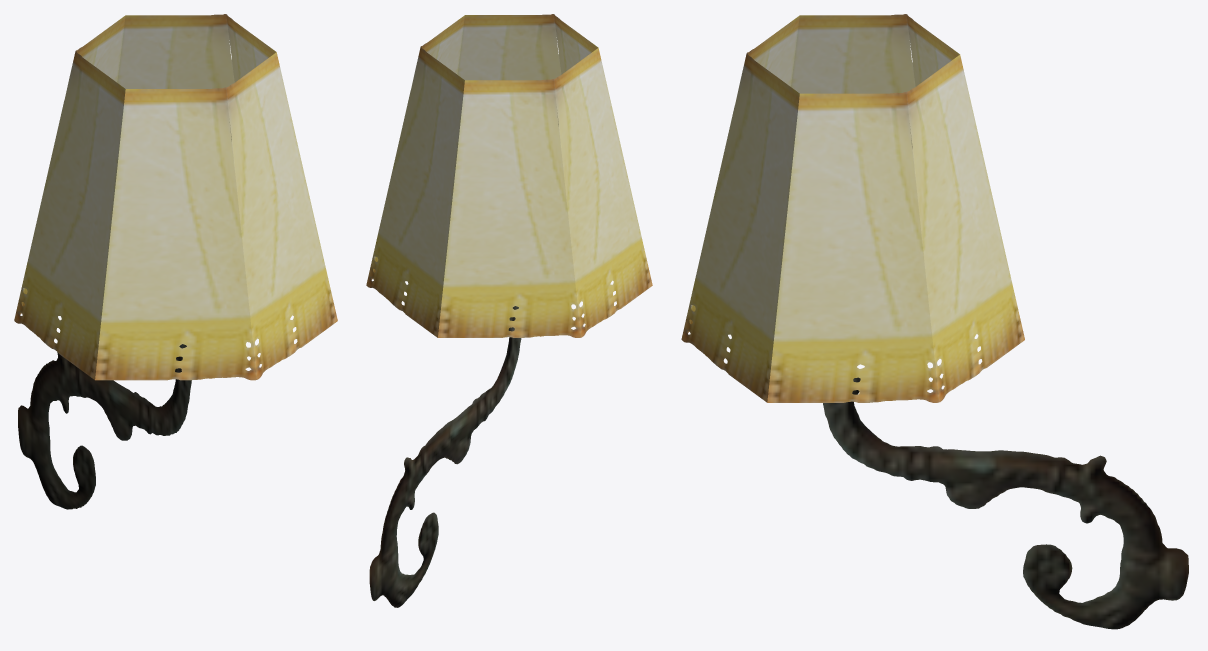
Rendered from lamp_on.fbx.
3 renders of one model, left to right at view 1: azimuth 30°, elevation 25°; view 2: azimuth 150°, elevation 25°; view 3: azimuth 270°, elevation 25°, orthographic. The views are drawn at different scales.
Visible parts, largest first — view 1: Lamp on; view 2: Lamp on; view 3: Lamp on.
Part boxes in pixels (<box>): Lamp on: <box>14,14,337,509</box>; Lamp on: <box>366,14,652,607</box>; Lamp on: <box>681,14,1188,629</box>.
Bounding box in the file's own units: 59.39 × 129 × 102.
Materials: 1 (1 with a texture image).
